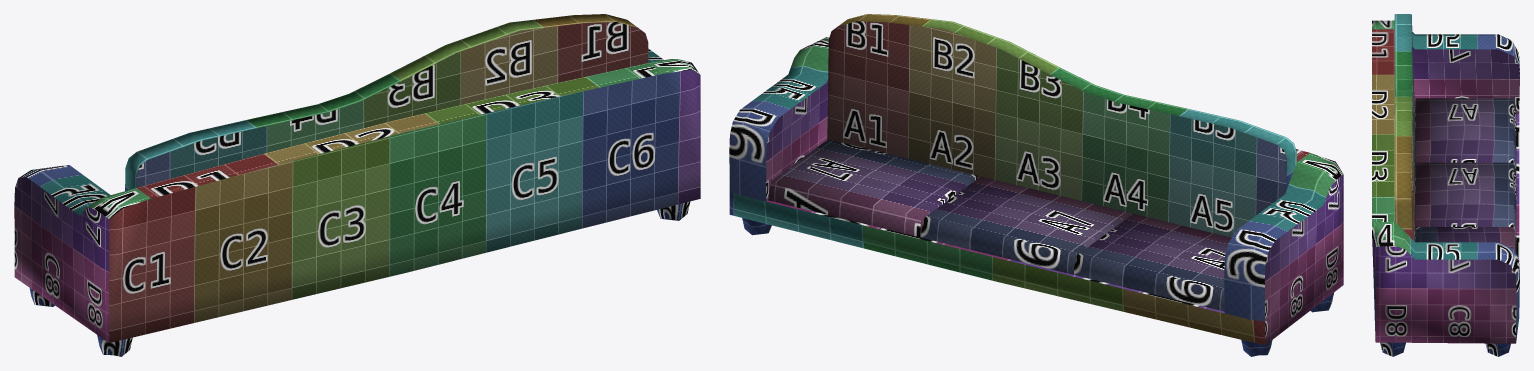
File: alley_bench.fbx
3 views of the same model, side by side, from view 1: azimuth 30°, elevation 25°; view 2: azimuth 150°, elevation 25°; view 3: azimuth 270°, elevation 25° (orthographic). The views are drawn at different scales.
Visible parts, largest first — view 1: alley_bench; view 2: alley_bench; view 3: alley_bench.
Boxes of the visible parts, box(x1,y1,x2,y2) form: alley_bench: box(14, 14, 700, 356); alley_bench: box(729, 14, 1343, 356); alley_bench: box(1372, 14, 1519, 356).
Bounding box in the file's own units: 3.53 × 0.9793 × 1.27.
Materials: 1 (1 with a texture image).
